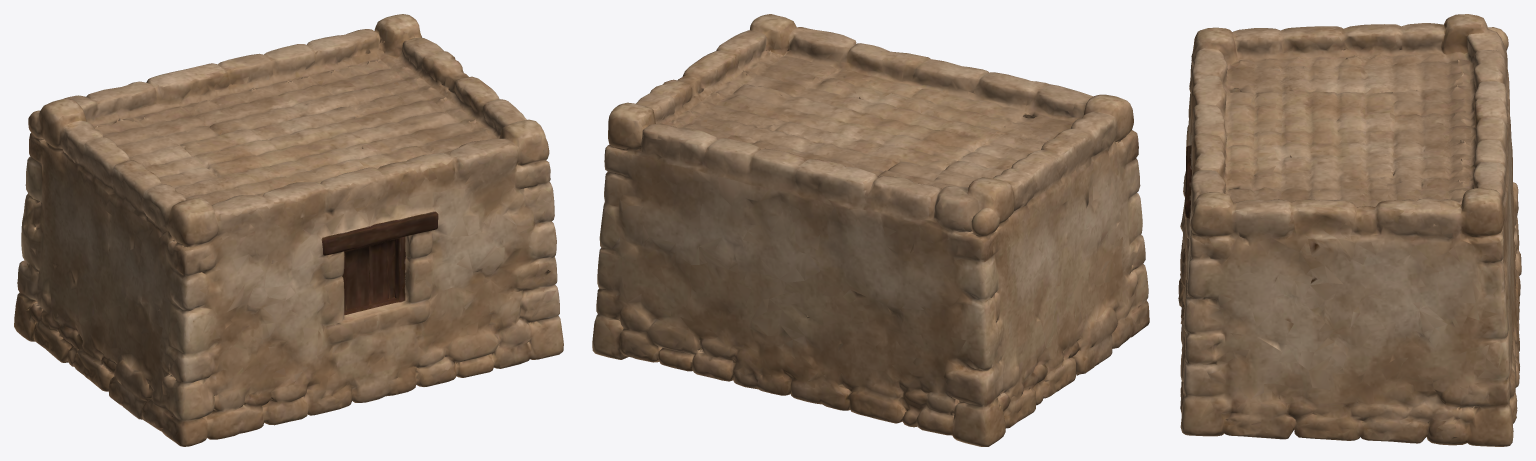
The model's file is limestone-house-annex.glb.
3 renders of one model, left to right at view 1: azimuth 30°, elevation 25°; view 2: azimuth 150°, elevation 25°; view 3: azimuth 270°, elevation 25°, orthographic.
Visible parts, largest first — view 1: geometry_0; view 2: geometry_0; view 3: geometry_0.
Boxes of the visible parts, bbox=[...] form: geometry_0: bbox=[14, 14, 563, 446]; geometry_0: bbox=[592, 14, 1149, 446]; geometry_0: bbox=[1178, 14, 1521, 446].
Bounding box in the file's own units: 4.51 × 2.65 × 3.32.
1 material, 1 textured.
